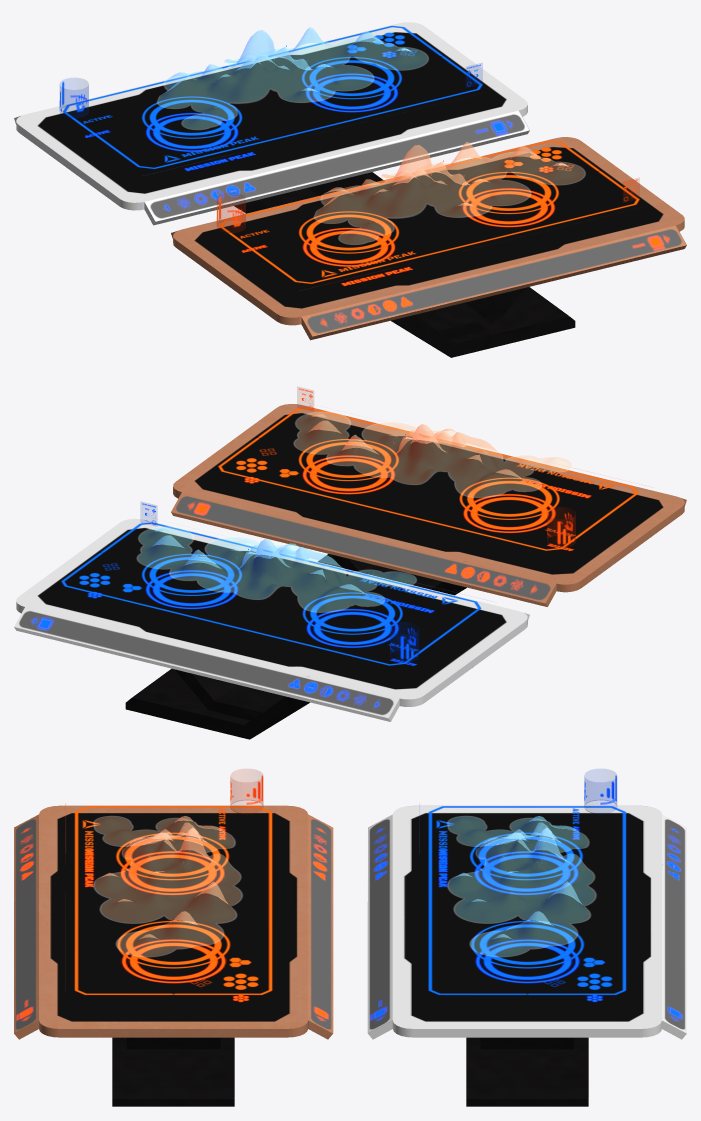
The model's file is hologram_table__game_ready_asset.glb.
3 renders of one model, top to bottom at view 1: azimuth 30°, elevation 25°; view 2: azimuth 150°, elevation 25°; view 3: azimuth 270°, elevation 25°, orthographic. The views are drawn at different scales.
Visible parts, largest first — view 1: HT1, HT; view 2: HT, HT1; view 3: HT1, HT.
Part boxes in pixels (<box>): HT1: <box>171,137,686,357</box>; HT: <box>14,22,529,225</box>; HT: <box>14,502,529,739</box>; HT1: <box>171,387,686,606</box>; HT1: <box>14,769,333,1106</box>; HT: <box>367,769,686,1106</box>.
Size of the model in its own units: 2.62 by 1.15 by 3.34.
2 materials, 2 textured.
